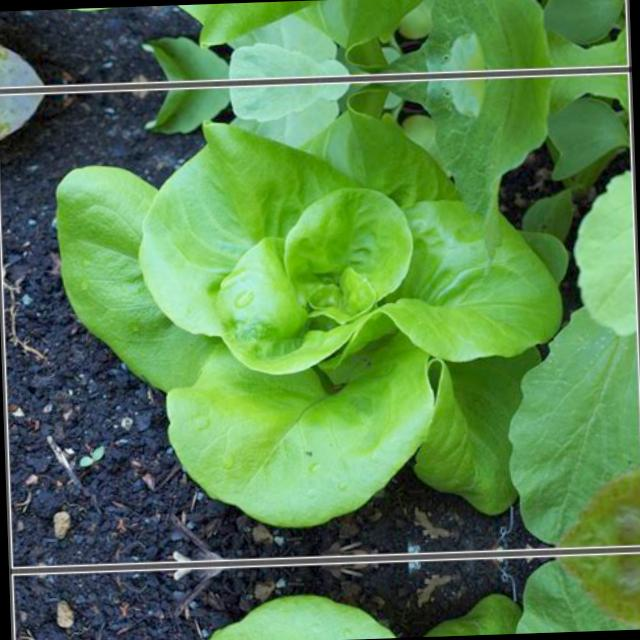healthy: (96, 115, 528, 536), (113, 582, 532, 640), (92, 0, 511, 44)
